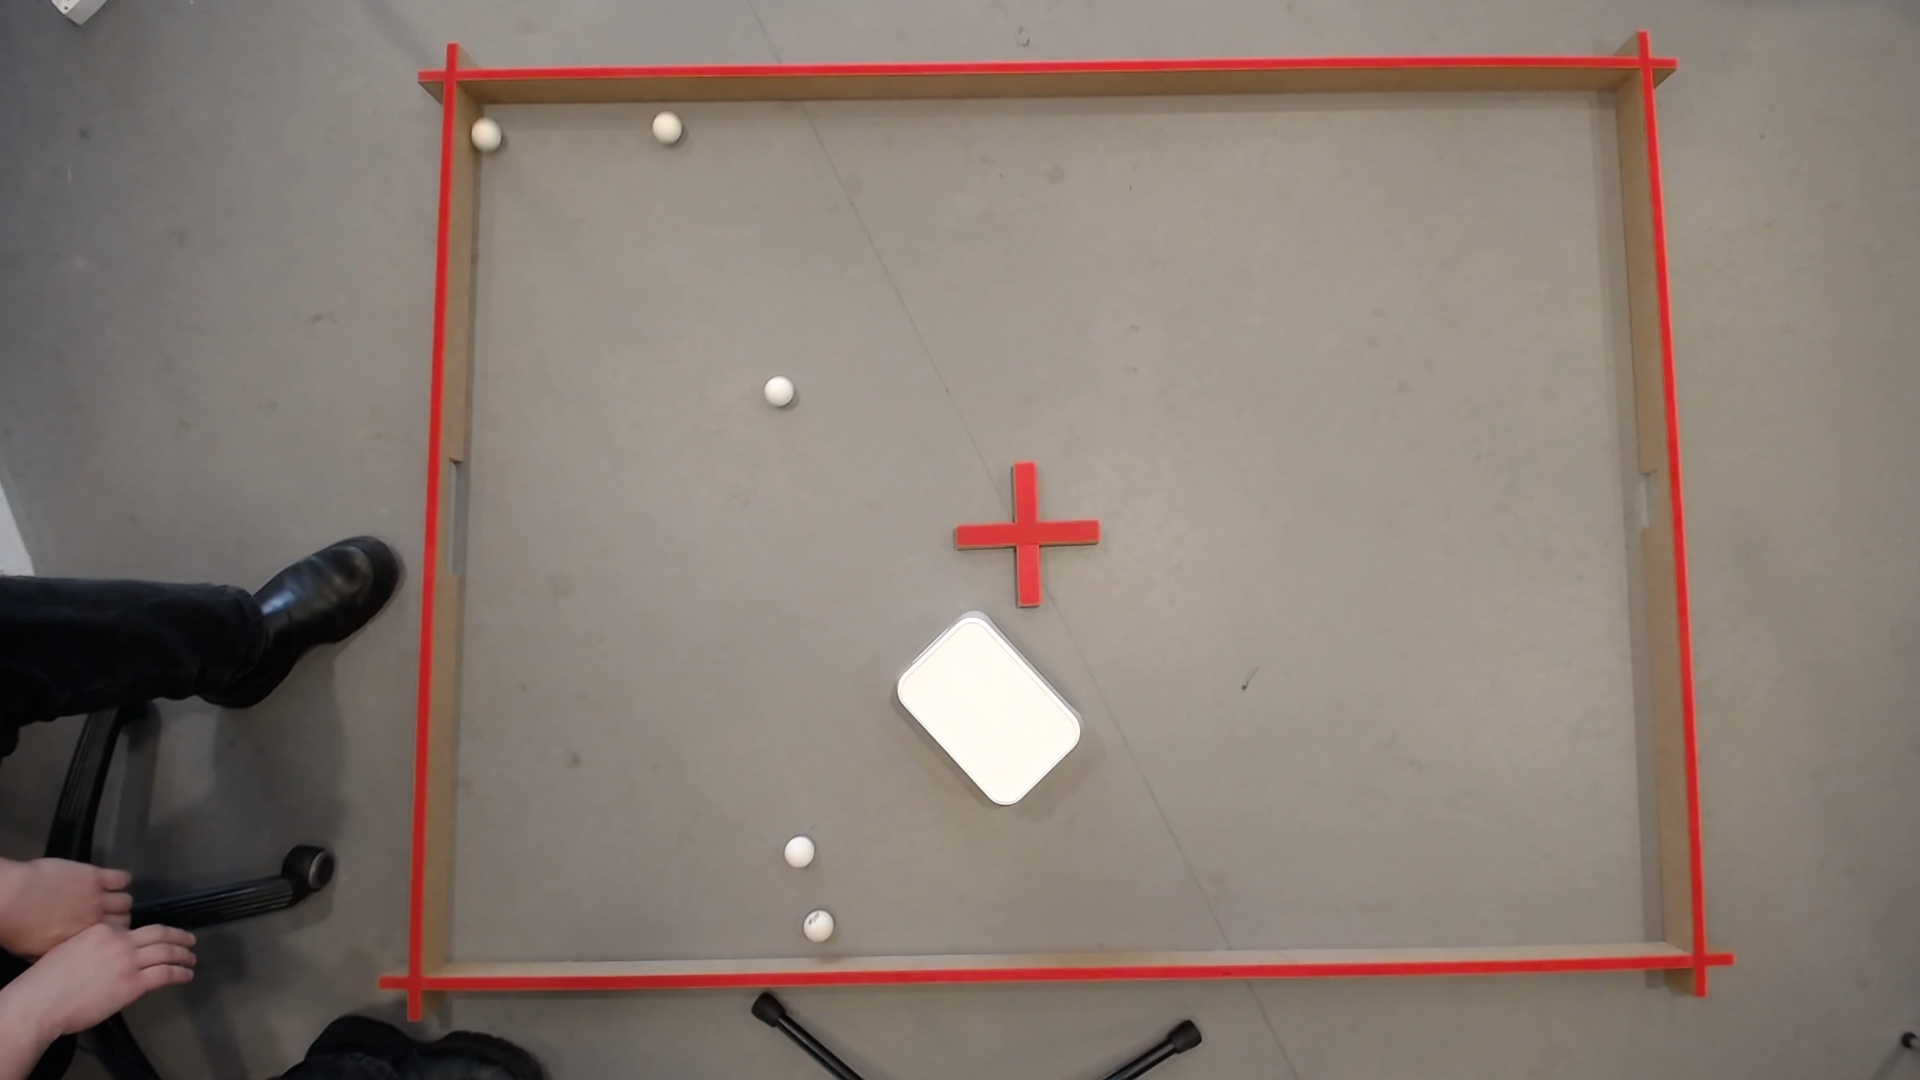balls: (885, 605, 1092, 814), (781, 832, 816, 866), (761, 372, 795, 404), (802, 906, 833, 939), (649, 108, 680, 138)
car: (471, 119, 496, 142)
